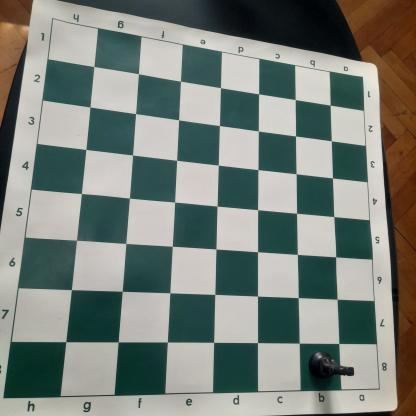black-knight: (309, 350, 354, 384)
